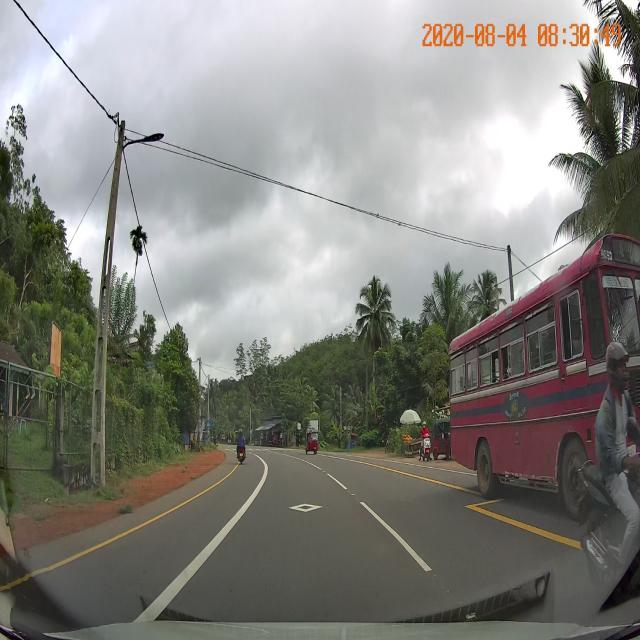diamond: (229, 481, 379, 517)
